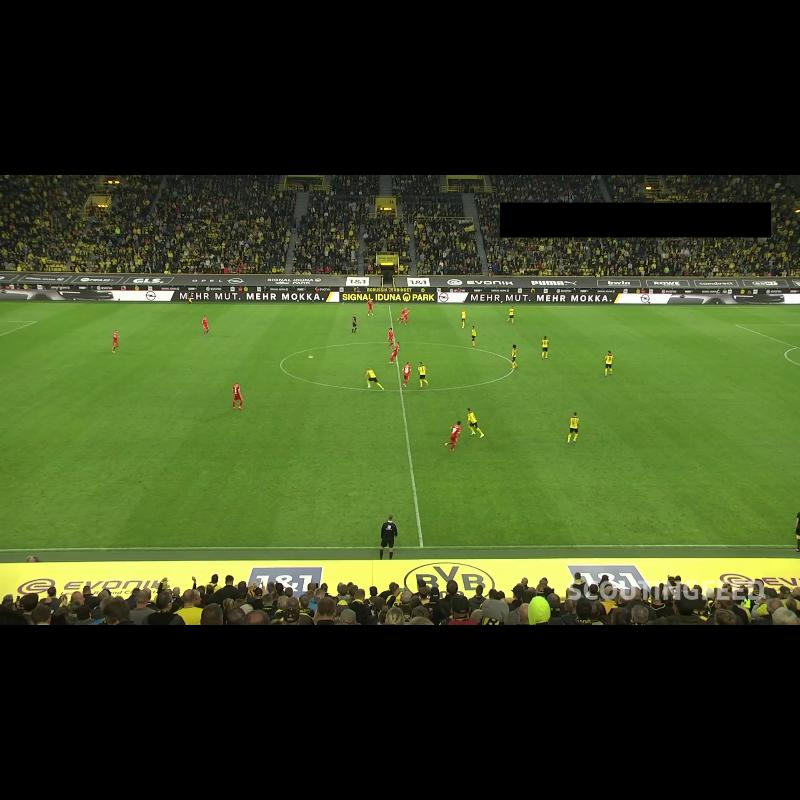cross_recipient_zone: (736, 325, 800, 349), (0, 321, 36, 335)
crossing_player_zone: (622, 306, 800, 325), (0, 303, 156, 322)
